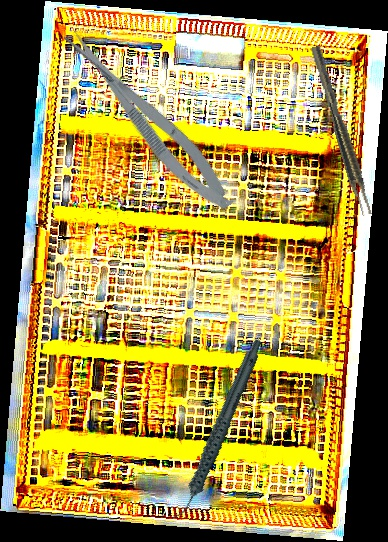Handpiece: (138, 337, 297, 524)
Micro Scissor: (57, 17, 241, 221)
Tissue Forceps: (310, 43, 374, 218)
